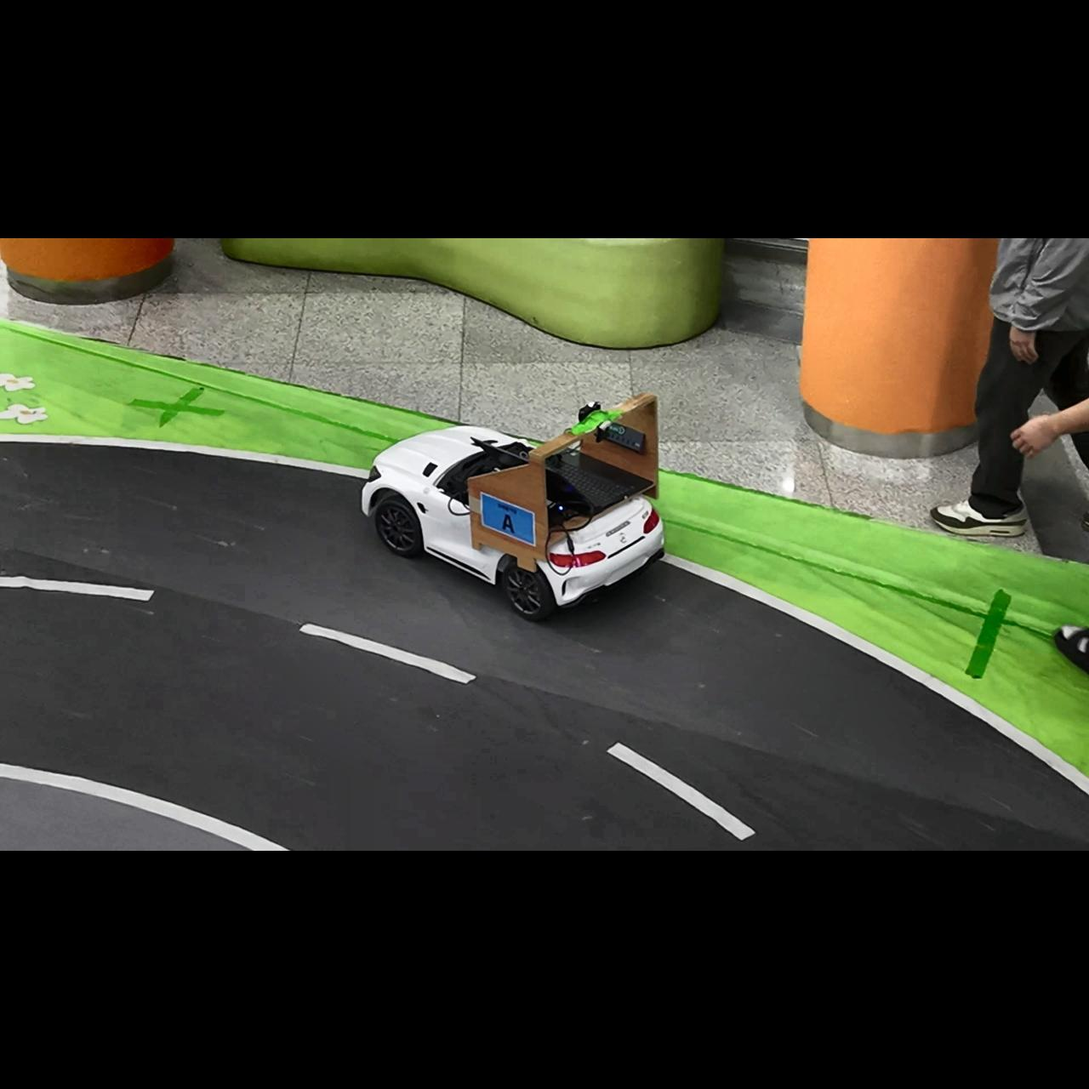broken_line: (605, 742, 756, 841), (299, 623, 476, 684), (0, 576, 155, 600)
